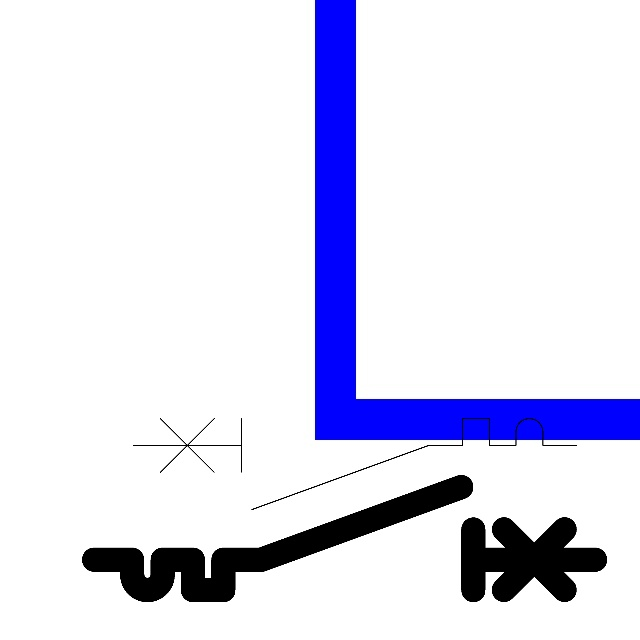interruptor_termomagnetico: (81, 474, 608, 603), (122, 407, 588, 521)
